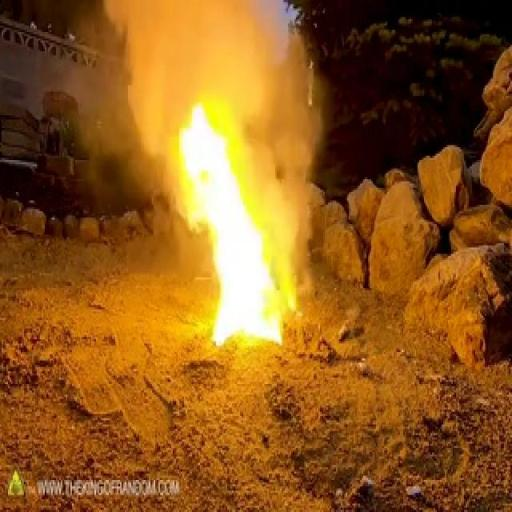smoke: (173, 109, 291, 354)
